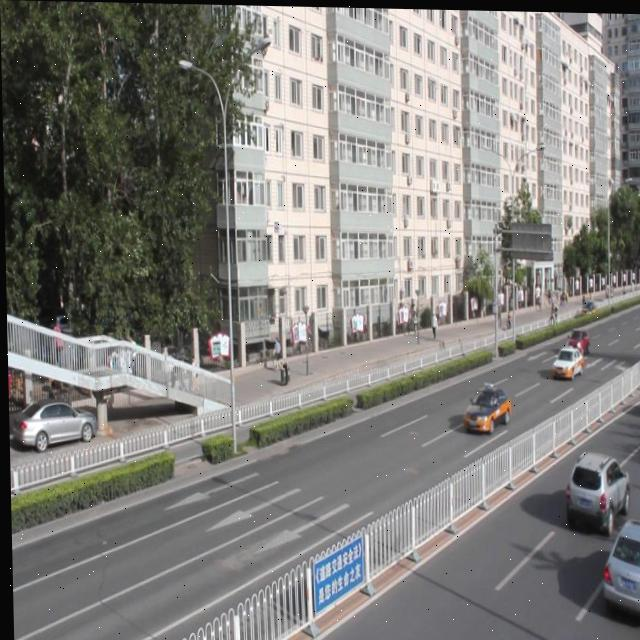car: (561, 446, 626, 526), (596, 512, 640, 610), (460, 383, 507, 430), (548, 341, 580, 376)
